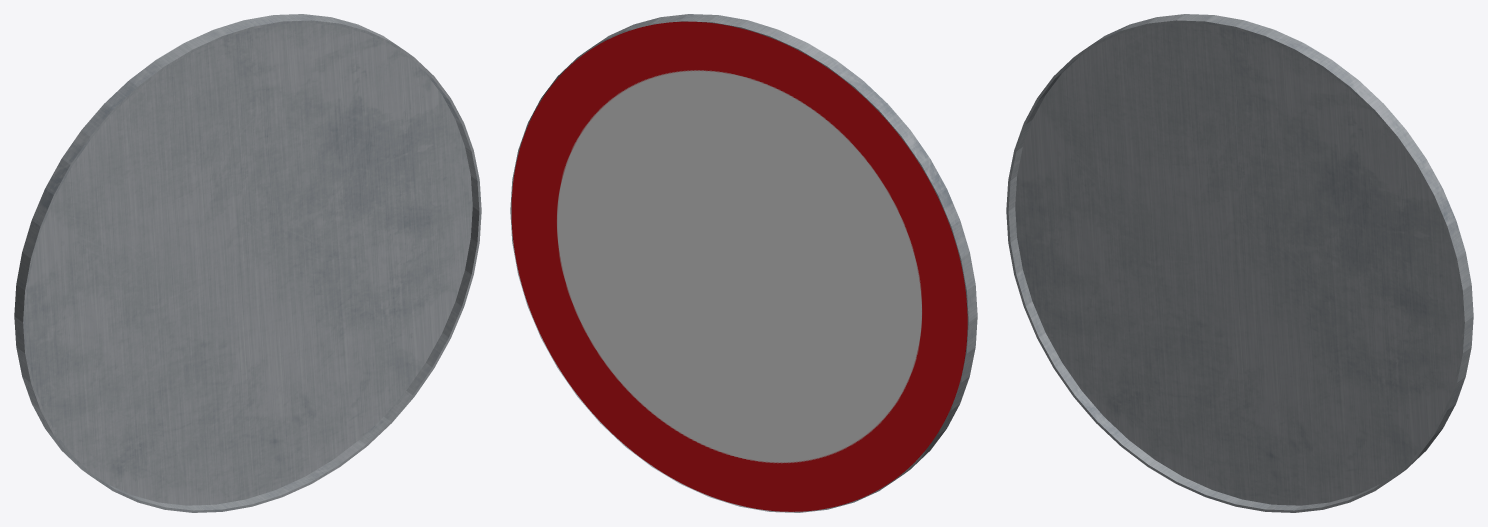
Rendered from Vehicles_prohibited.fbx.
3 views of the same model, side by side, from view 1: azimuth 30°, elevation 25°; view 2: azimuth 150°, elevation 25°; view 3: azimuth 330°, elevation 25° (orthographic).
Parts seen in each view (by area): view 1: Vehicles prohibited; view 2: Vehicles prohibited; view 3: Vehicles prohibited.
Boxes of the visible parts, <box> form: Vehicles prohibited: <box>14,14,481,512</box>; Vehicles prohibited: <box>510,14,977,512</box>; Vehicles prohibited: <box>1006,14,1473,512</box>.
Size of the model in its own units: 0.02 by 0.6 by 0.6.
